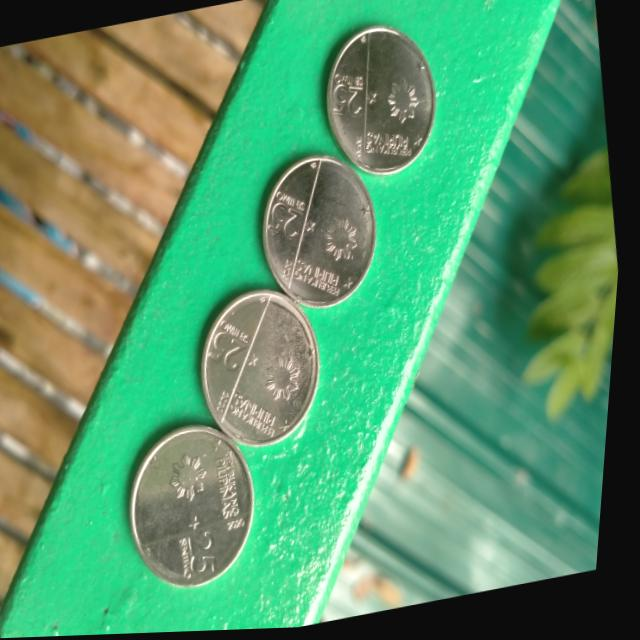25Cent_New_Front: (194, 300, 324, 457), (318, 48, 432, 181)
